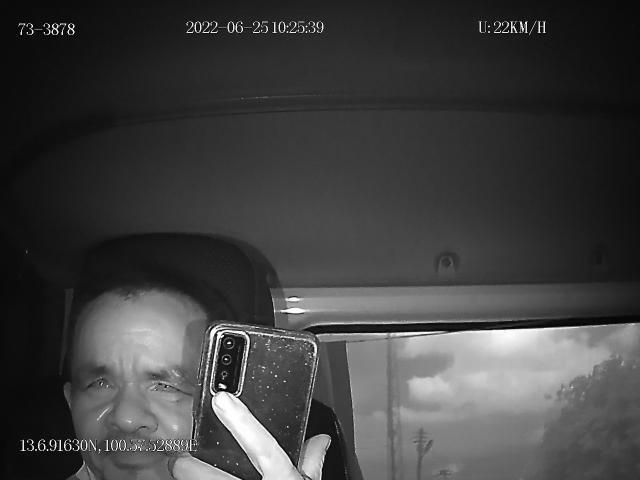PhoneUse: (190, 320, 318, 480)
SafeDriving: (140, 366, 192, 402), (78, 366, 122, 398)
